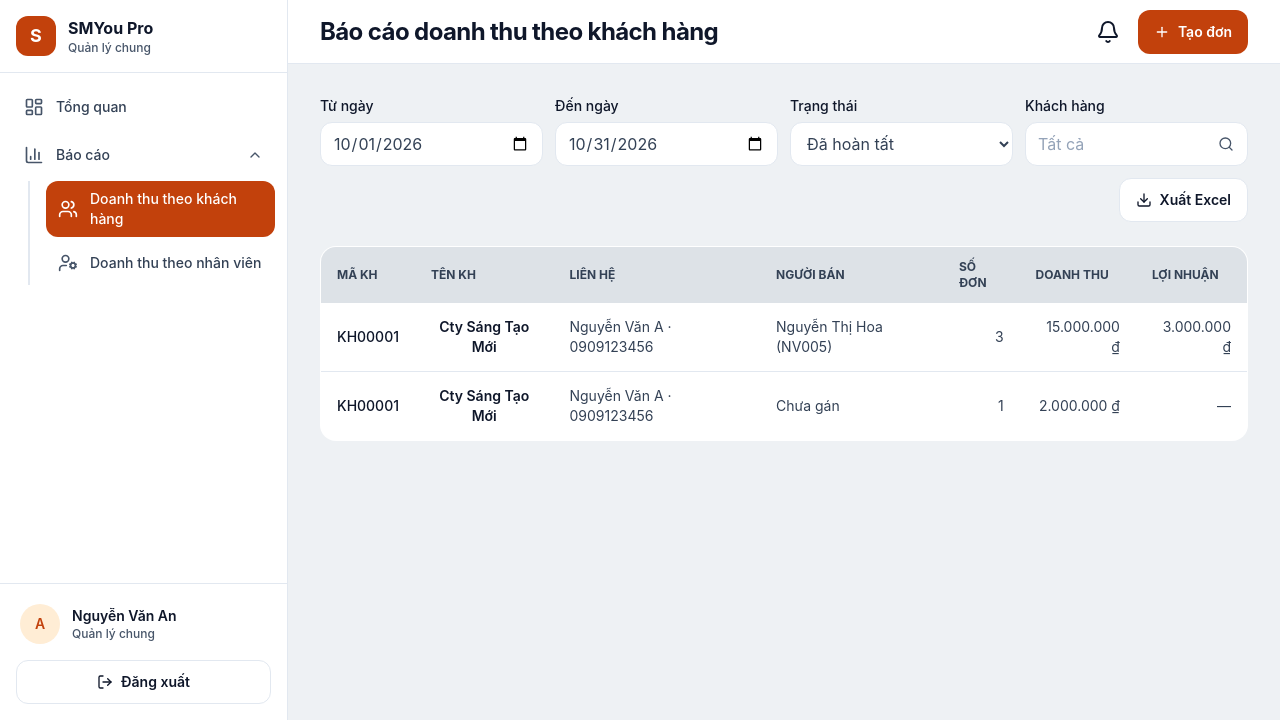
Scenario: Báo cáo doanh thu theo khách hàng › AC-RPT-071 dòng 'Chưa gán' hiện trong bảng, bấm vào gọi /lines?unassigned=true
Expected: the text "Chưa gán" is shown, [760,372,943,440]
Click the button "Cty Sáng Tạo Mới" in the row of "Chưa gán". click: (484, 406)
box: [431,384,538,428]
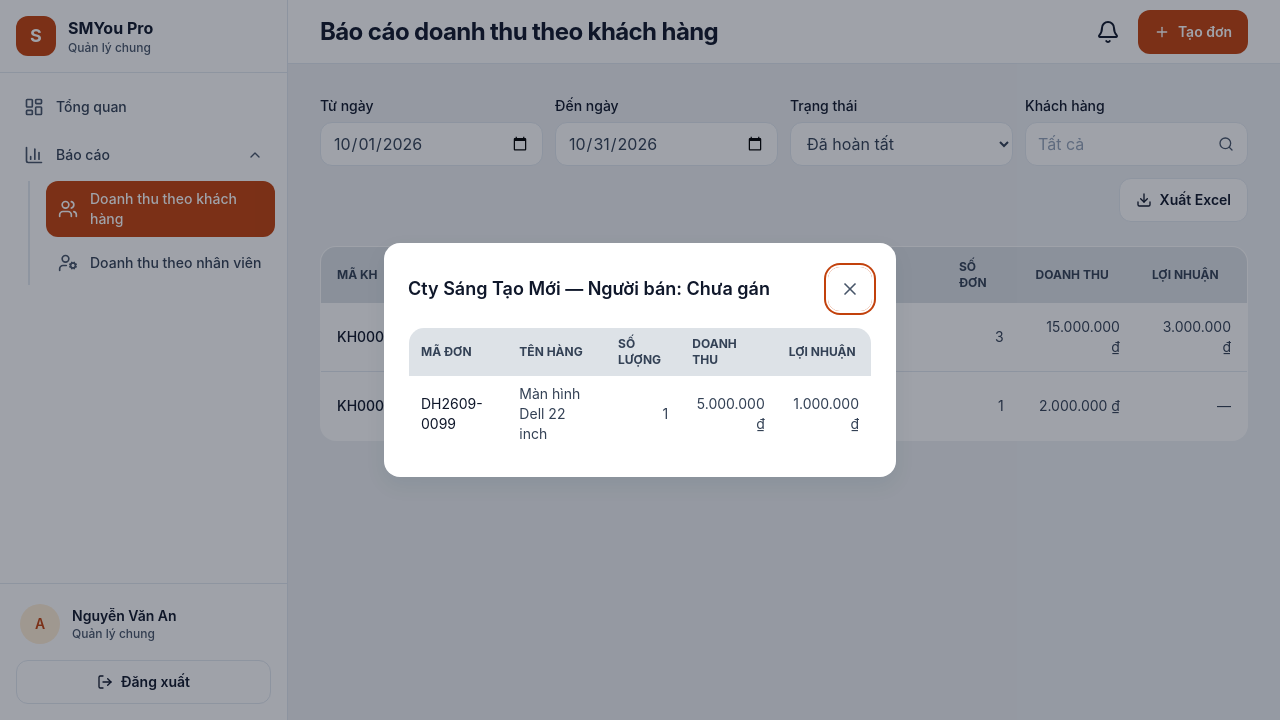
Expected: the dialog "Cty Sáng Tạo Mới — Người bán: Chưa gán" is shown
Expected: the text "DH2609-0099" is shown, [408,376,507,452]
